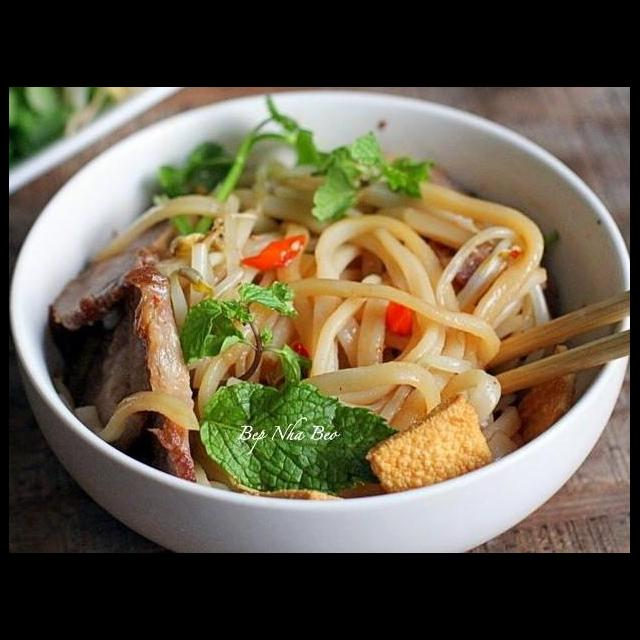banh da: (361, 388, 496, 500)
mi: (160, 151, 550, 440), (82, 186, 236, 272), (70, 389, 202, 450)
thit heo: (92, 259, 204, 490), (43, 207, 184, 336)
